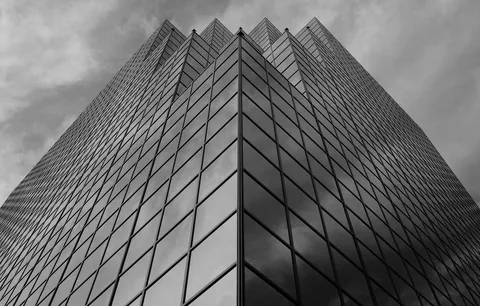high_rise_building: (130, 10, 355, 304)
